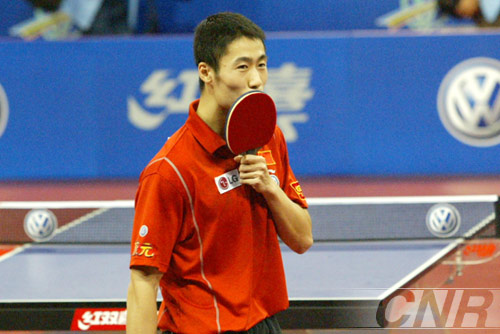face: (207, 38, 268, 106)
